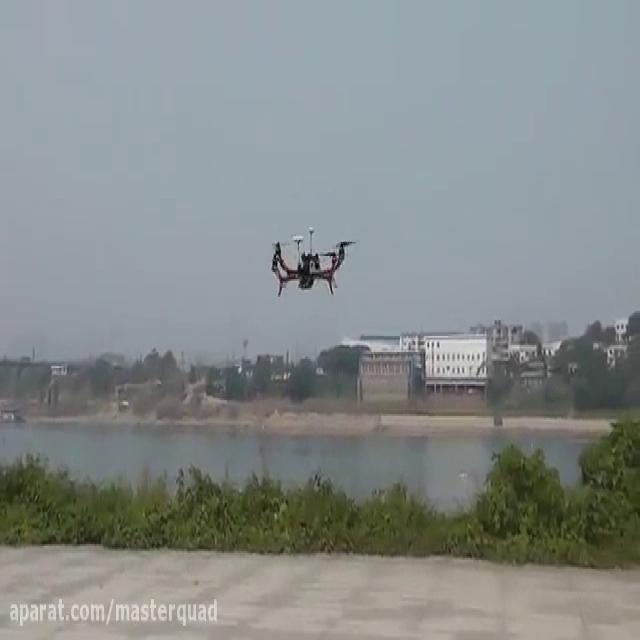drone: (265, 220, 361, 296)
